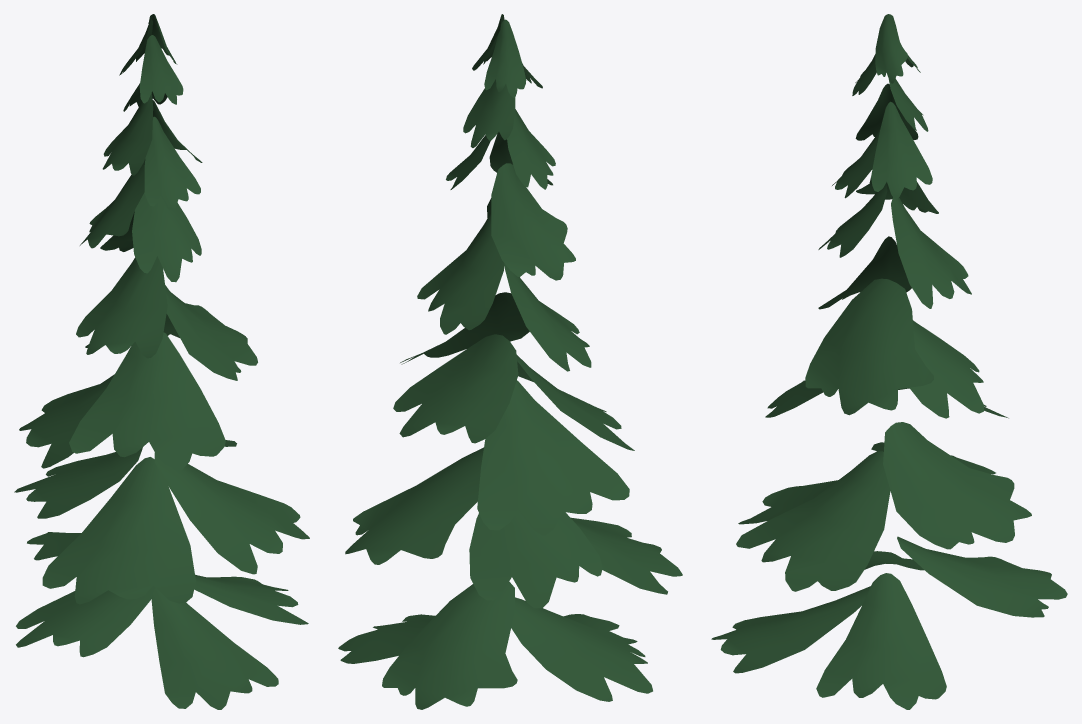
File: pineLeaves2b.fbx
3 views of the same model, side by side, from view 1: azimuth 30°, elevation 25°; view 2: azimuth 150°, elevation 25°; view 3: azimuth 270°, elevation 25° (orthographic). The views are drawn at different scales.
Visible parts, largest first — view 1: pine2PolyLeaf_LOD0; view 2: pine2PolyLeaf_LOD0; view 3: pine2PolyLeaf_LOD0.
Boxes of the visible parts, x1,y1,x2,y2 form: pine2PolyLeaf_LOD0: (14,14,309,709); pine2PolyLeaf_LOD0: (338,14,682,709); pine2PolyLeaf_LOD0: (711,14,1067,709).
Size of what is drawn, in the model's own units: 123 by 262 by 133.
